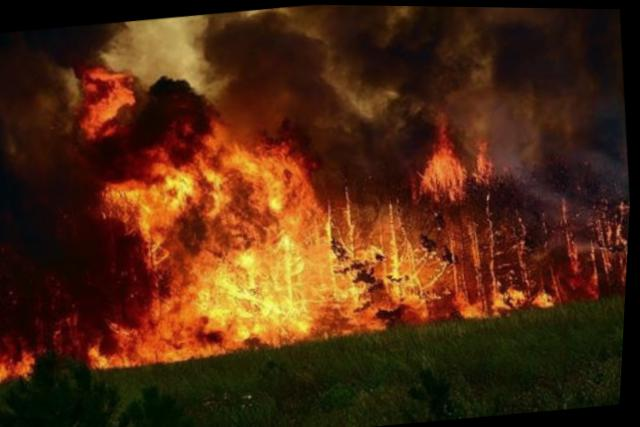fire: (0, 6, 619, 382)
